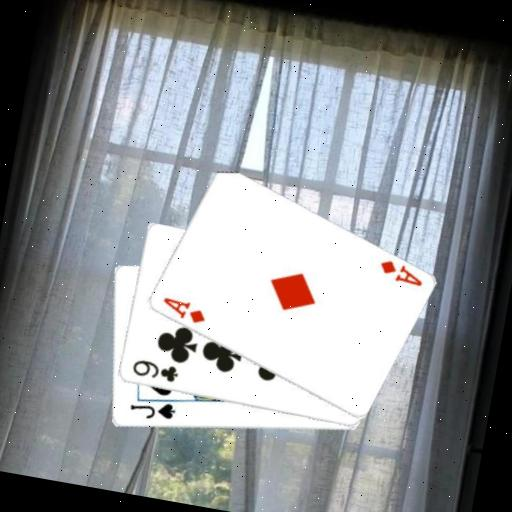9C: (128, 355, 181, 385)
AD: (156, 293, 208, 327), (374, 255, 426, 288)
JS: (125, 393, 178, 425)
